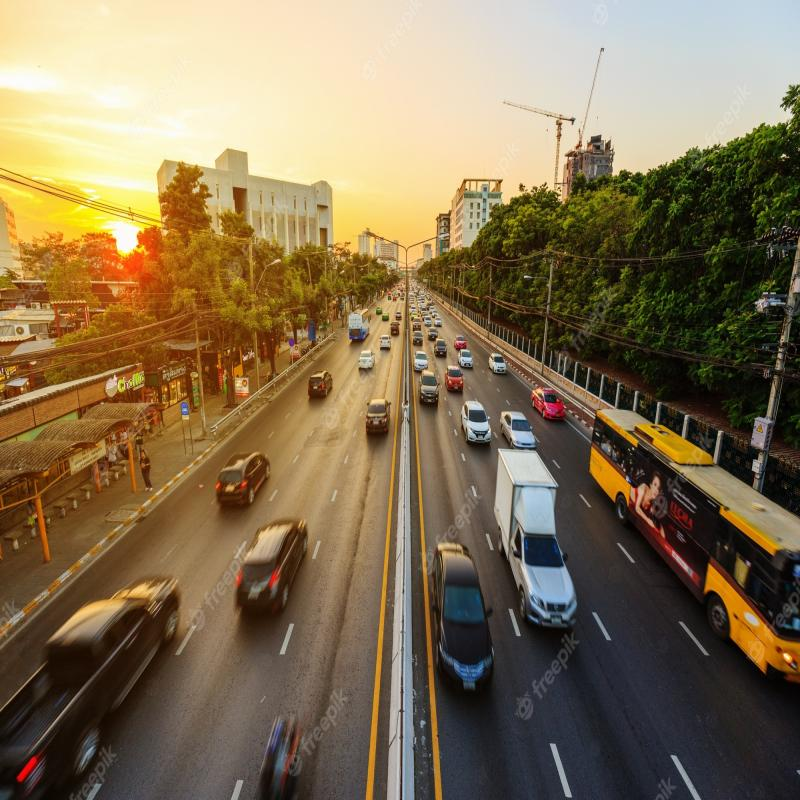car: (431, 529, 496, 669), (207, 404, 275, 515), (239, 510, 309, 615), (528, 368, 568, 426), (498, 406, 540, 446), (458, 402, 486, 451), (307, 362, 334, 408), (423, 366, 442, 424), (367, 399, 393, 440), (451, 370, 467, 394)
